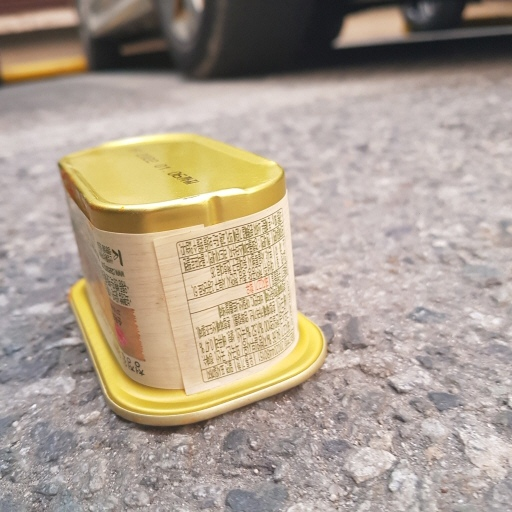Metal_2: (51, 128, 328, 430)
